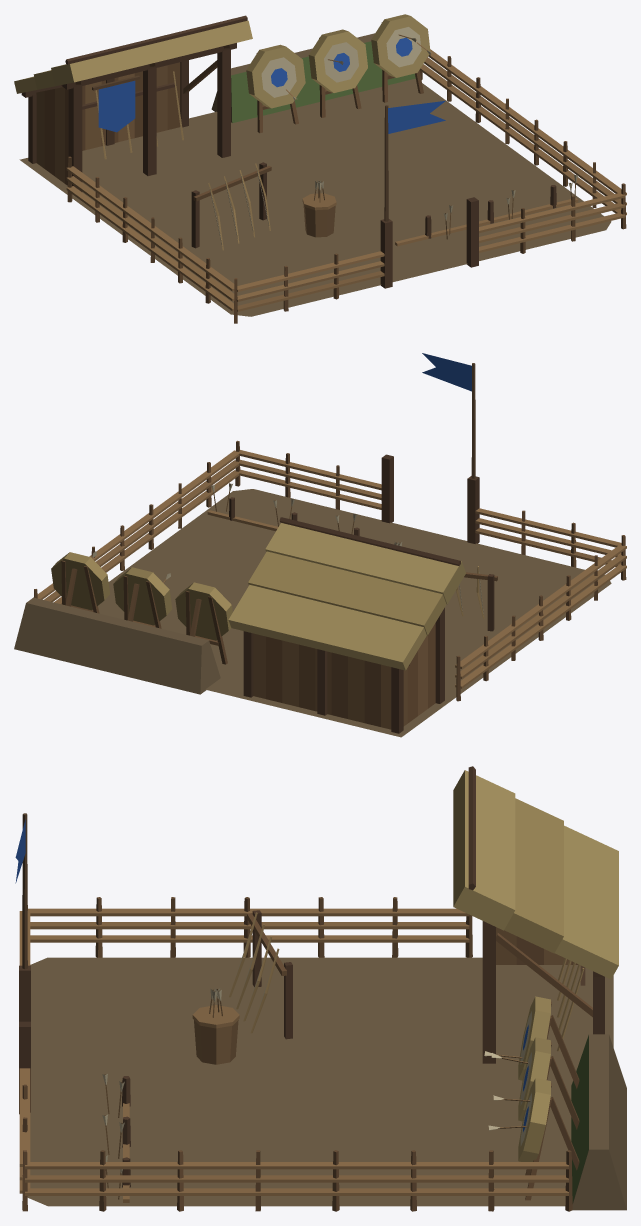
File: archery-range.glb
3 views of the same model, one above another, from view 1: azimuth 30°, elevation 25°; view 2: azimuth 150°, elevation 25°; view 3: azimuth 270°, elevation 25° (orthographic). The views are drawn at different scales.
Parts seen in each view (by area): view 1: archery-range; view 2: archery-range; view 3: archery-range.
Part boxes in pixels (left/top/right/bottom): archery-range: left=14, top=14, right=626, bottom=323; archery-range: left=14, top=353, right=626, bottom=737; archery-range: left=15, top=766, right=626, bottom=1211.
Bounding box in the file's own units: 9.16 × 4.06 × 9.21.
